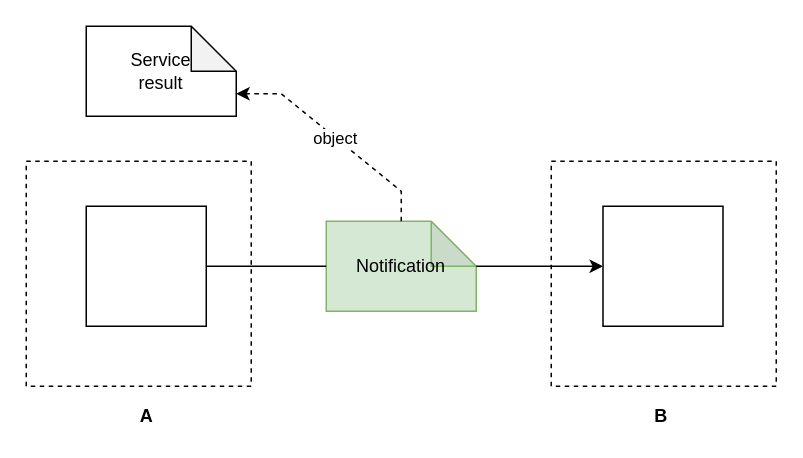
Image size: 803x458. Some labels were removed from this diagram. The centre of each missing label's shape, as x and y in pixels:
LDN Receiver: (x=662, y=265)
LDN Sender: (x=145, y=265)
